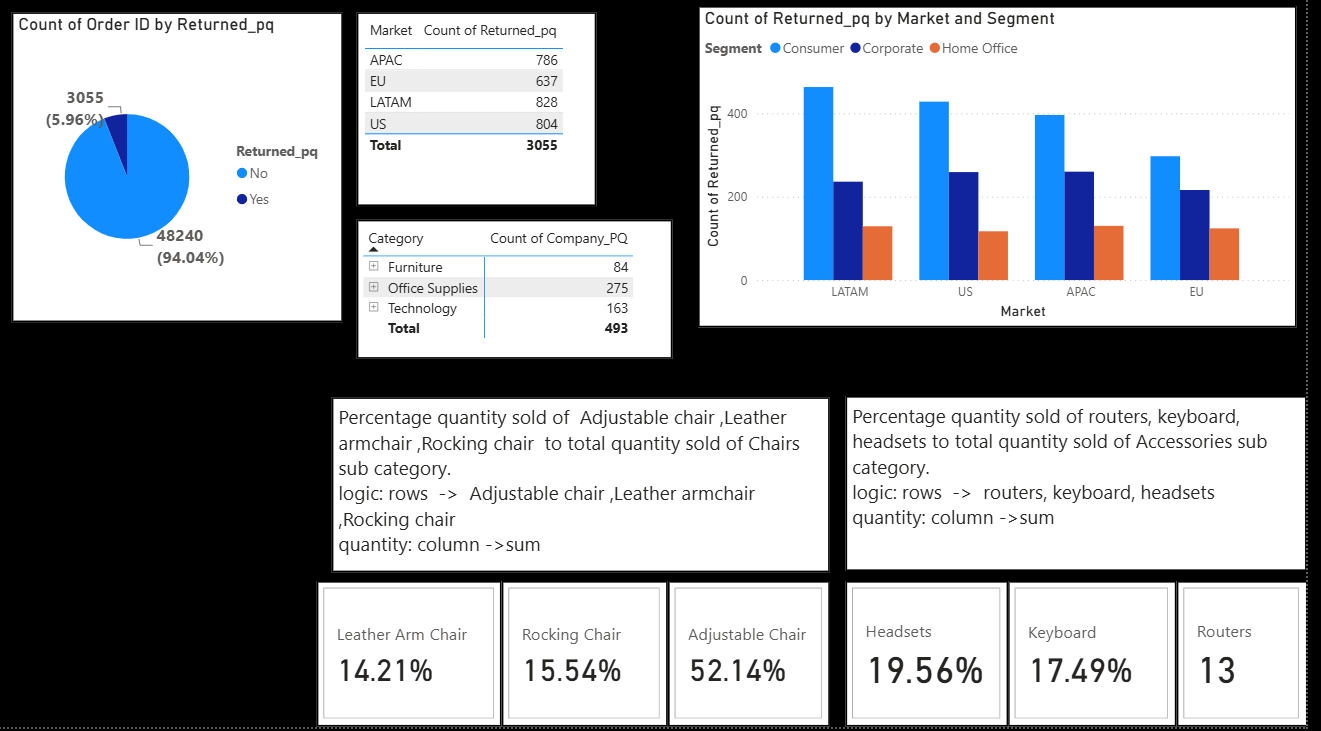

The page's visual inventory and layout, read from the dashboard file:
{"tool":"powerbi","page":{"name":"power query onward ","canvas":[1280,720],"ordinal":17},"visuals":[{"type":"pieChart","fields":{"Category":["Orders.Returned_pq"],"Y":["CountNonNull(Orders.Order ID)"]},"box":[13.7,20.6,323.8,303.3],"z":0},{"type":"cardVisual","fields":{"Data":["measure.Leather Arm Chair"]},"box":[311.5,577.7,181.1,142.7],"z":0,"group":"g2"},{"type":"cardVisual","fields":{"Data":["measure.Routers"]},"box":[1152.6,577.7,127.6,142.7],"z":0,"group":"g1"},{"type":"tableEx","fields":{"Values":["Orders.Market","Orders.Returned_pq"]},"box":[351.3,20.6,234.6,189.4],"z":1000},{"type":"cardVisual","fields":{"Data":["measure.Rocking Chair"]},"box":[492.6,577.7,162.7,142.7],"z":1000,"group":"g2"},{"type":"cardVisual","fields":{"Data":["measure.Keyboard"]},"box":[988,577.7,164.7,142.7],"z":1000,"group":"g1"},{"type":"clusteredColumnChart","fields":{"Category":["Orders.Market"],"Series":["Orders.Segment"],"Y":["CountNonNull(Orders.Returned_pq)"]},"box":[684.7,15.1,585.9,314.2],"z":2000},{"type":"cardVisual","fields":{"Data":["measure.Adjustable Chair"]},"box":[655.3,577.7,158.5,142.7],"z":2000,"group":"g2"},{"type":"cardVisual","fields":{"Data":["measure.Headsets"]},"box":[828.8,577.7,159.2,142.7],"z":2000,"group":"g1"},{"type":"pivotTable","fields":{"Rows":["Orders.Category","Orders.Sub-Category"],"Values":["Count(Orders.Company_PQ)"]},"box":[351.3,223.7,308.7,135.8],"z":3000},{"type":"group","id":"g1","title":"Group 1","box":[828.8,577.7,451.5,142.7],"z":4000},{"type":"textbox","box":[828.8,396.6,451.5,171.5],"z":5000},{"type":"textbox","box":[326.6,397.9,487.1,171.5],"z":6000},{"type":"group","id":"g2","title":"Group 2","box":[311.5,577.7,502.2,142.7],"z":7000}]}

Visuals, with their boxes in screenshot pixels (x1, y1, x2, y2), scaled from the page's 1280x720 canvas onto the 1321x731 screenshot:
pieChart - Orders.Returned_pq x CountNonNull(Orders.Order ID): {"left": 14, "top": 21, "right": 348, "bottom": 329}
cardVisual - measure.Leather Arm Chair: {"left": 321, "top": 587, "right": 508, "bottom": 730}
cardVisual - measure.Routers: {"left": 1190, "top": 587, "right": 1320, "bottom": 730}
tableEx - Orders.Market x Orders.Returned_pq: {"left": 363, "top": 21, "right": 605, "bottom": 213}
cardVisual - measure.Rocking Chair: {"left": 508, "top": 587, "right": 676, "bottom": 730}
cardVisual - measure.Keyboard: {"left": 1020, "top": 587, "right": 1190, "bottom": 730}
clusteredColumnChart - Orders.Market x Orders.Segment: {"left": 707, "top": 15, "right": 1311, "bottom": 334}
cardVisual - measure.Adjustable Chair: {"left": 676, "top": 587, "right": 840, "bottom": 730}
cardVisual - measure.Headsets: {"left": 855, "top": 587, "right": 1020, "bottom": 730}
pivotTable - Orders.Category x Orders.Sub-Category: {"left": 363, "top": 227, "right": 681, "bottom": 365}
"Group 1" group: {"left": 855, "top": 587, "right": 1320, "bottom": 730}
textbox: {"left": 855, "top": 403, "right": 1320, "bottom": 577}
textbox: {"left": 337, "top": 404, "right": 840, "bottom": 578}
"Group 2" group: {"left": 321, "top": 587, "right": 840, "bottom": 730}
